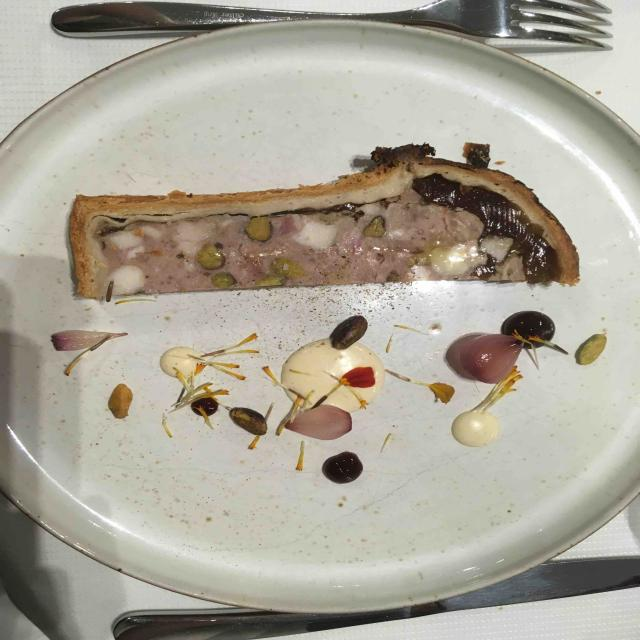cream: (278, 342, 374, 422)
dough-puff-pastry-shortcrust-bread-pizza-dough: (74, 150, 575, 299)
meat-terrine-pate: (65, 147, 592, 309)
pearl-onions: (170, 331, 530, 454)
